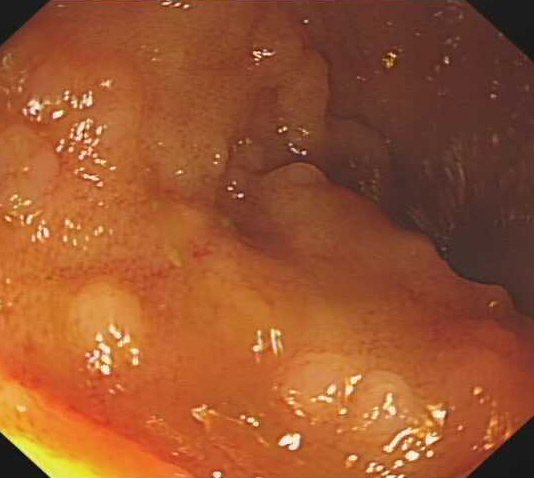others: (274, 350, 414, 442), (25, 59, 145, 145), (64, 274, 142, 368), (2, 124, 60, 222), (229, 137, 327, 191)
